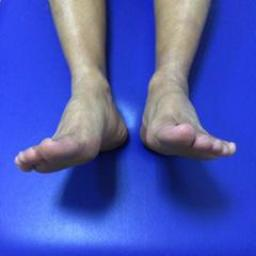Front View -Both Feet-: (7, 27, 240, 190)
